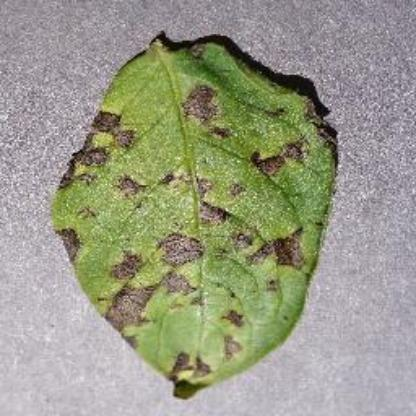Early-Blight: (50, 44, 342, 398)
